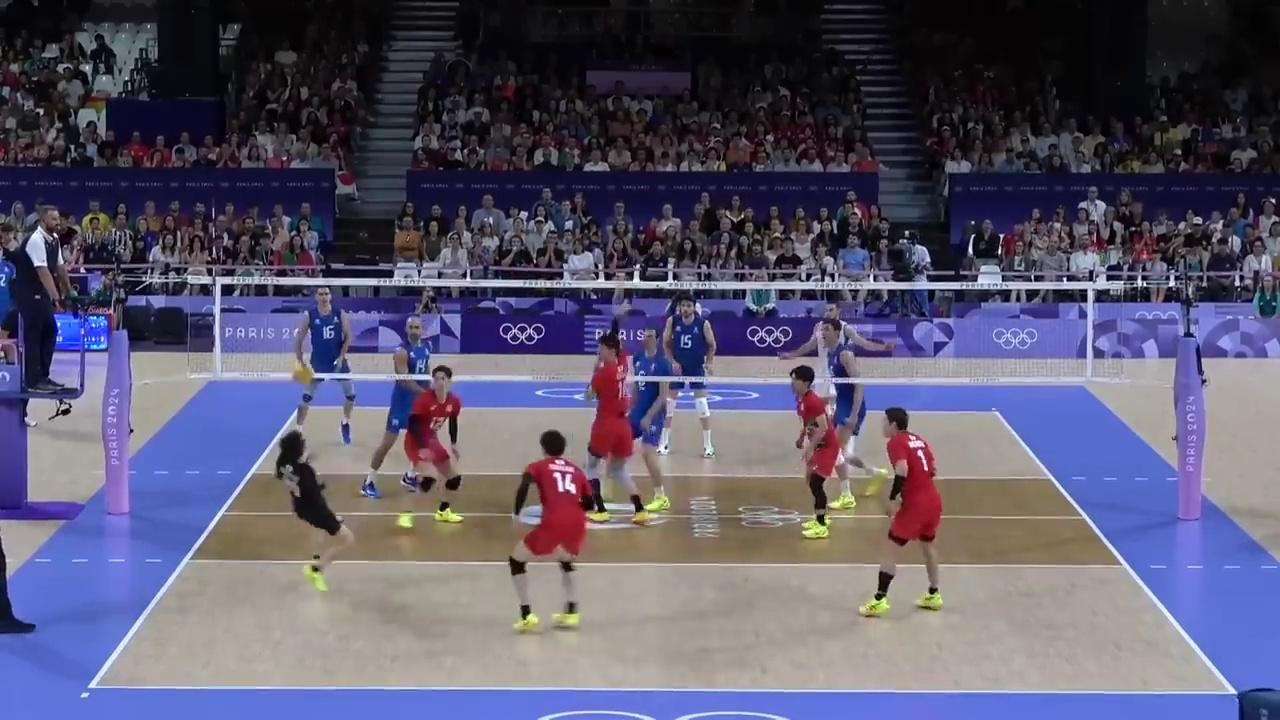ball: (294, 362, 315, 385)
